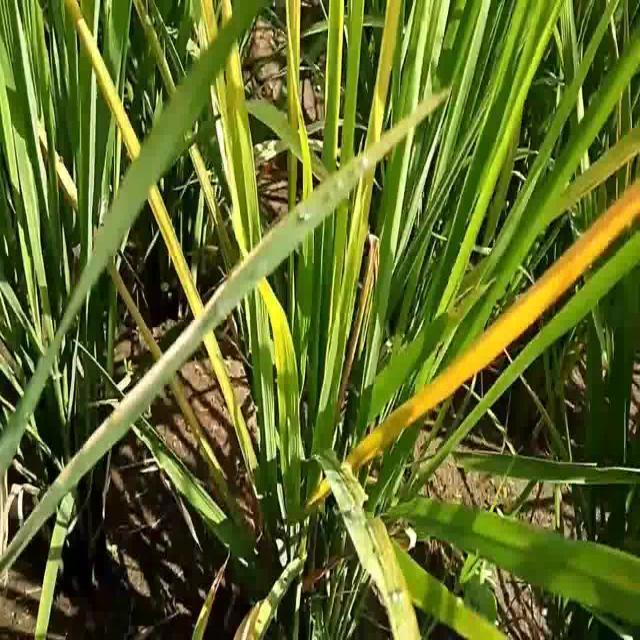Rice Tungro: (65, 1, 233, 426), (388, 172, 640, 448), (199, 5, 271, 291), (346, 3, 404, 269)
